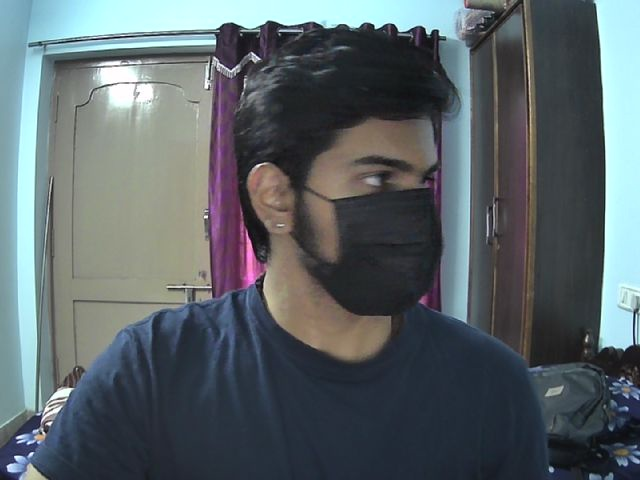Mask: (297, 190, 444, 317)
